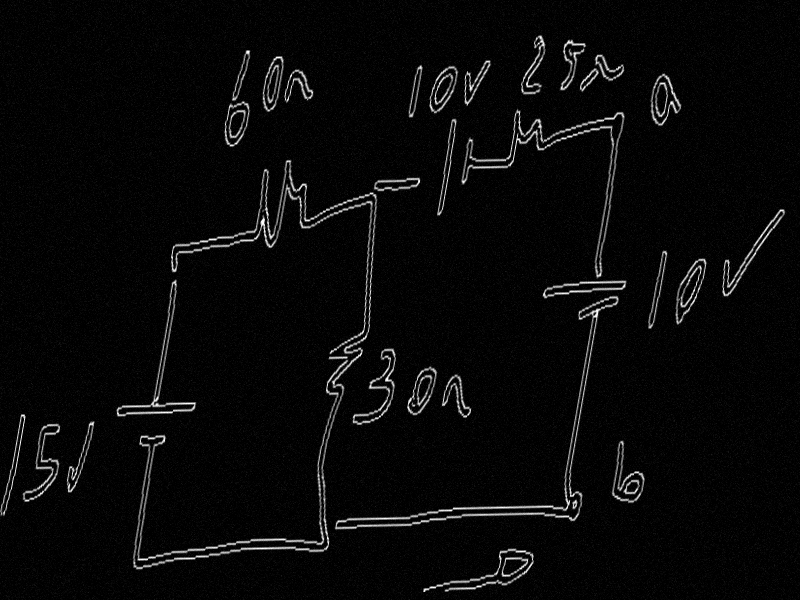0: (669, 256, 709, 329), (402, 363, 441, 417), (424, 64, 461, 118), (257, 52, 289, 114)
1: (0, 411, 29, 520), (645, 249, 670, 335), (404, 62, 425, 120)
2: (518, 32, 554, 98)
3: (350, 345, 403, 430)
5: (20, 417, 68, 504), (555, 37, 588, 88)
6: (218, 45, 263, 147)
V: (717, 207, 788, 298), (62, 420, 96, 498), (459, 57, 493, 106)
